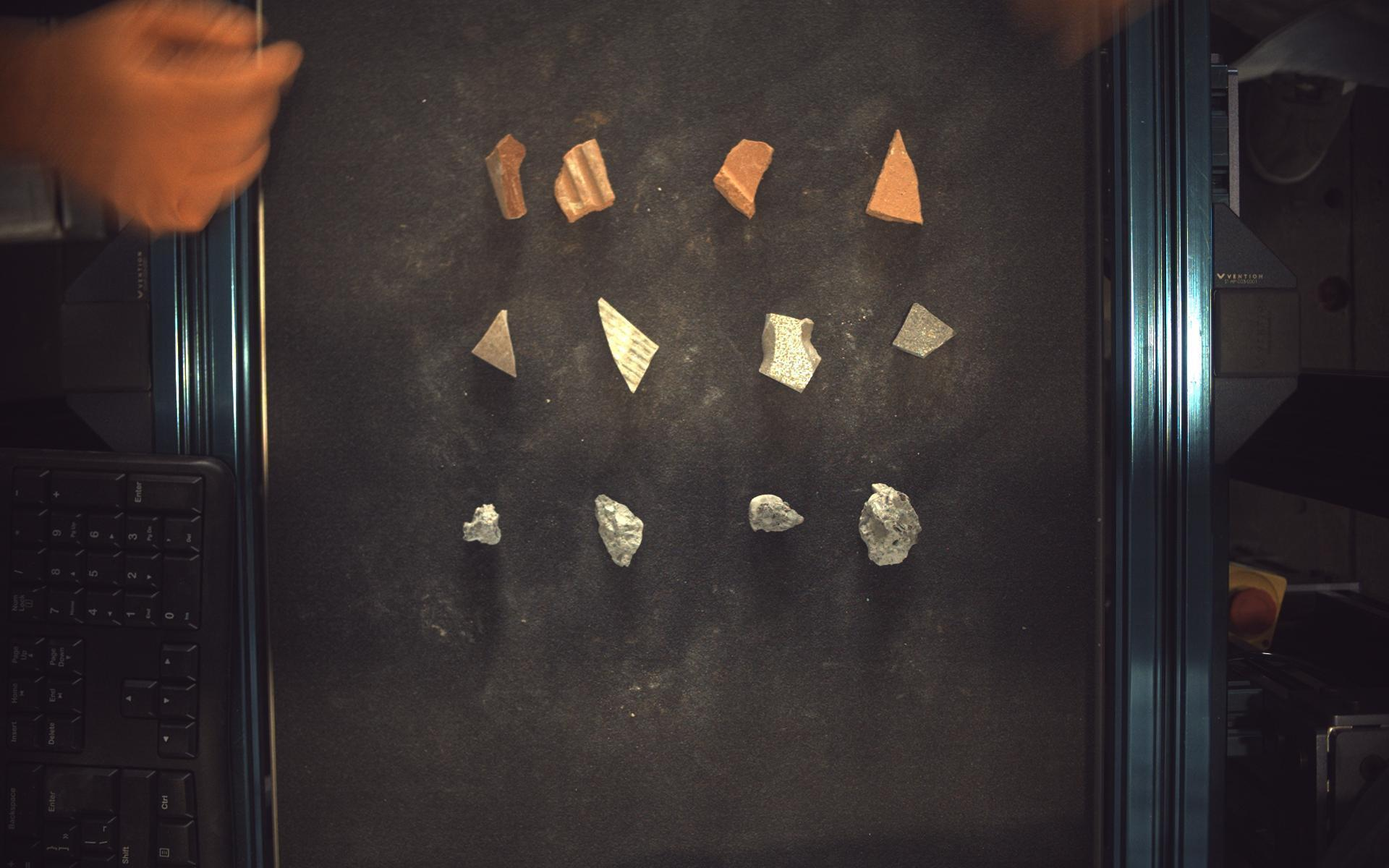brick: (868, 128, 925, 223), (556, 138, 616, 222), (715, 138, 775, 217), (485, 133, 527, 219)
concrete: (861, 483, 923, 566), (595, 495, 644, 567), (750, 495, 806, 532), (463, 504, 502, 546)
tile: (600, 297, 659, 393), (760, 312, 823, 392), (895, 302, 956, 357), (472, 310, 516, 377)
